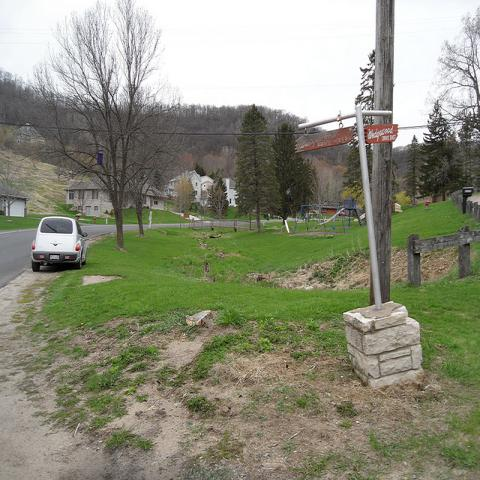car: (30, 216, 88, 271)
